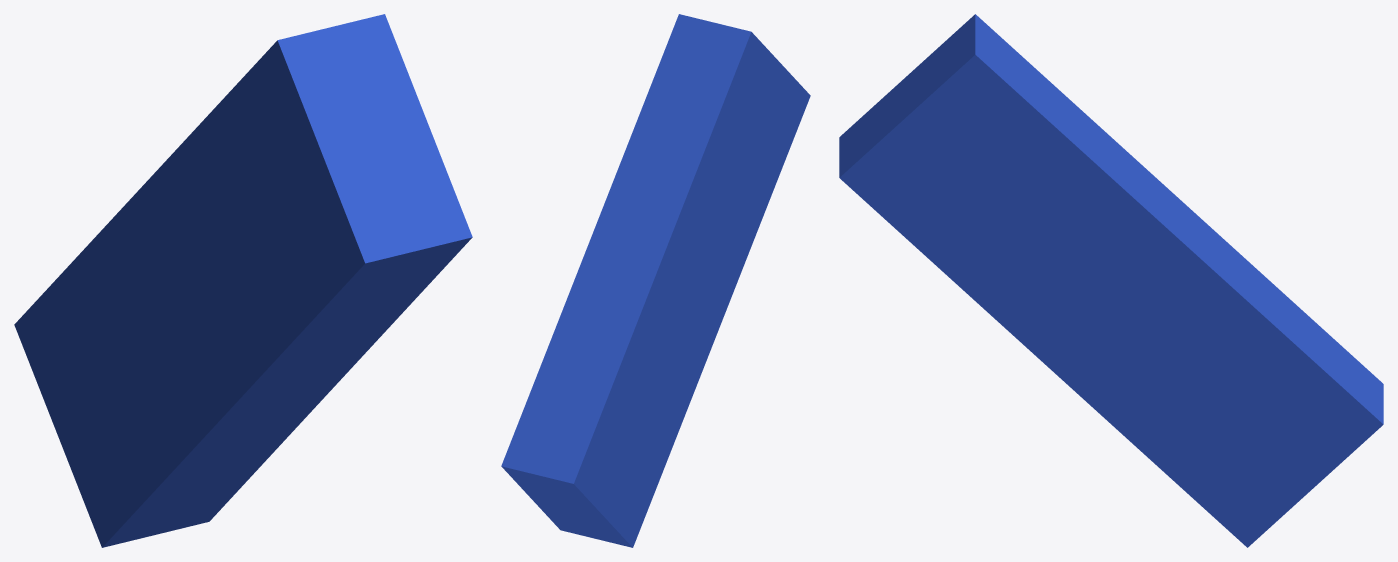
The model's file is thumb1.dae.
3 renders of one model, left to right at view 1: azimuth 30°, elevation 25°; view 2: azimuth 150°, elevation 25°; view 3: azimuth 270°, elevation 25°, orthographic. The views are drawn at different scales.
Visible parts, largest first — view 1: Cube; view 2: Cube; view 3: Cube.
Part boxes in pixels (x1=…): Cube: x1=14, y1=14, x2=472, y2=547; Cube: x1=501, y1=14, x2=810, y2=547; Cube: x1=839, y1=14, x2=1383, y2=547.
Bounding box in the file's own units: 0.00635 × 0.0359 × 0.0359.
